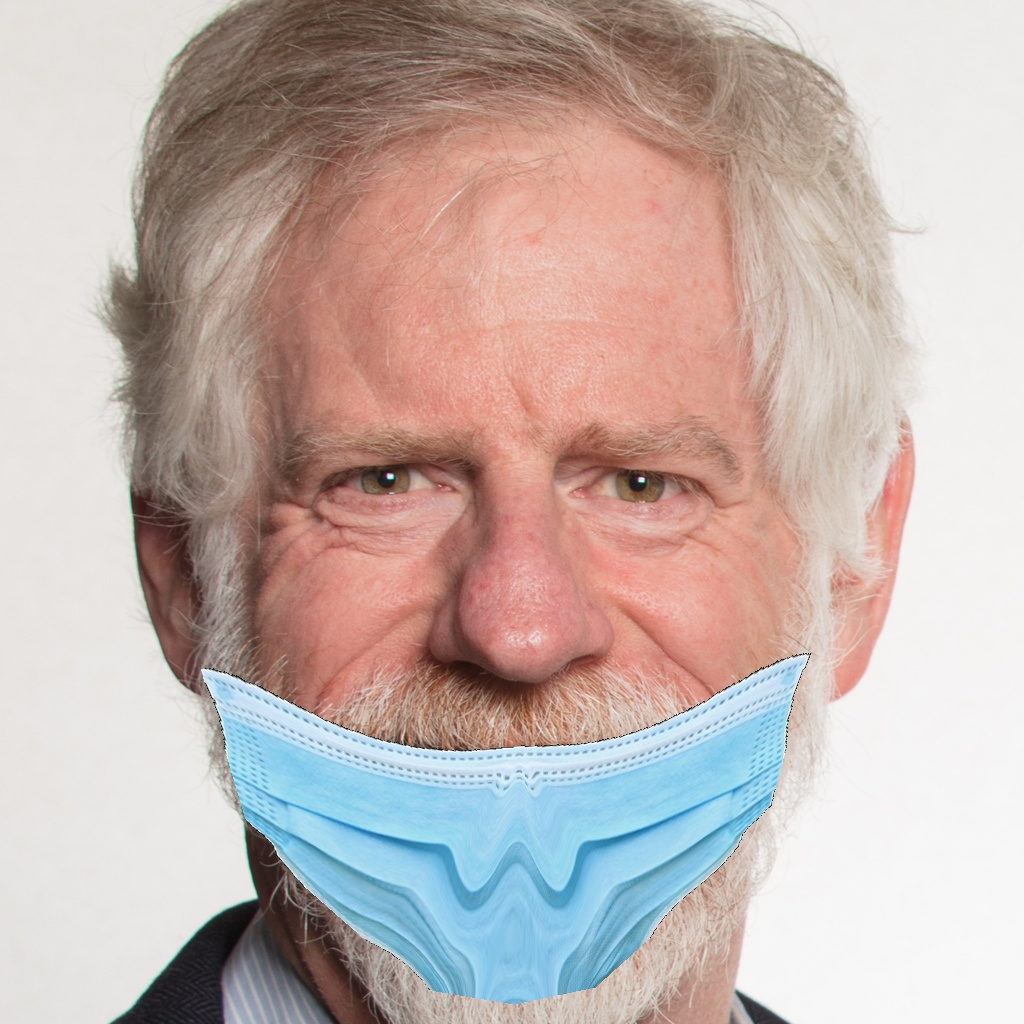mascarilla_mal_puesta: (231, 320, 823, 1000)
